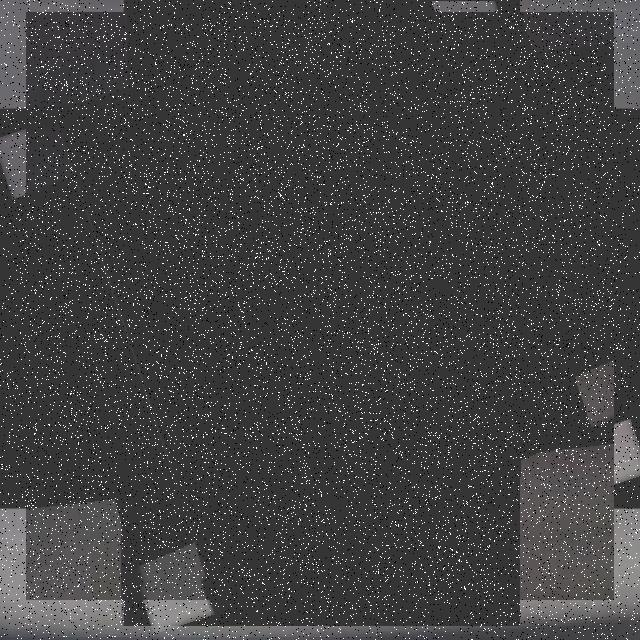dua puluh ribu rupiah: (26, 12, 614, 600)
